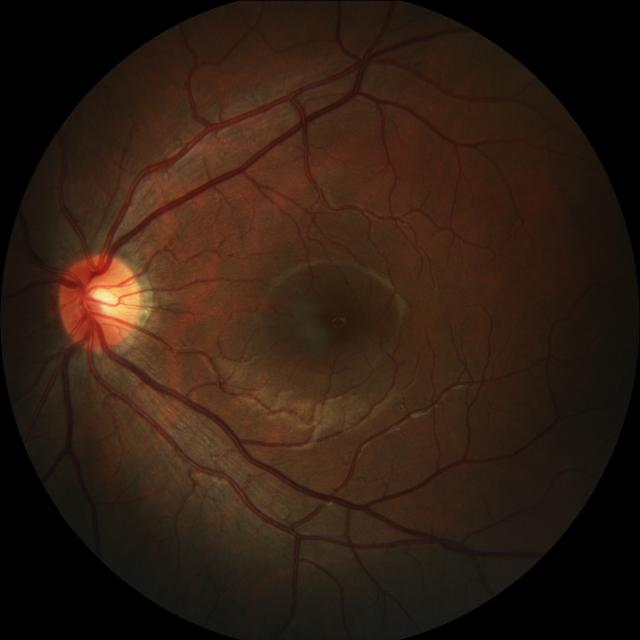OC: (76, 271, 125, 326)
OD: (59, 254, 145, 348)
